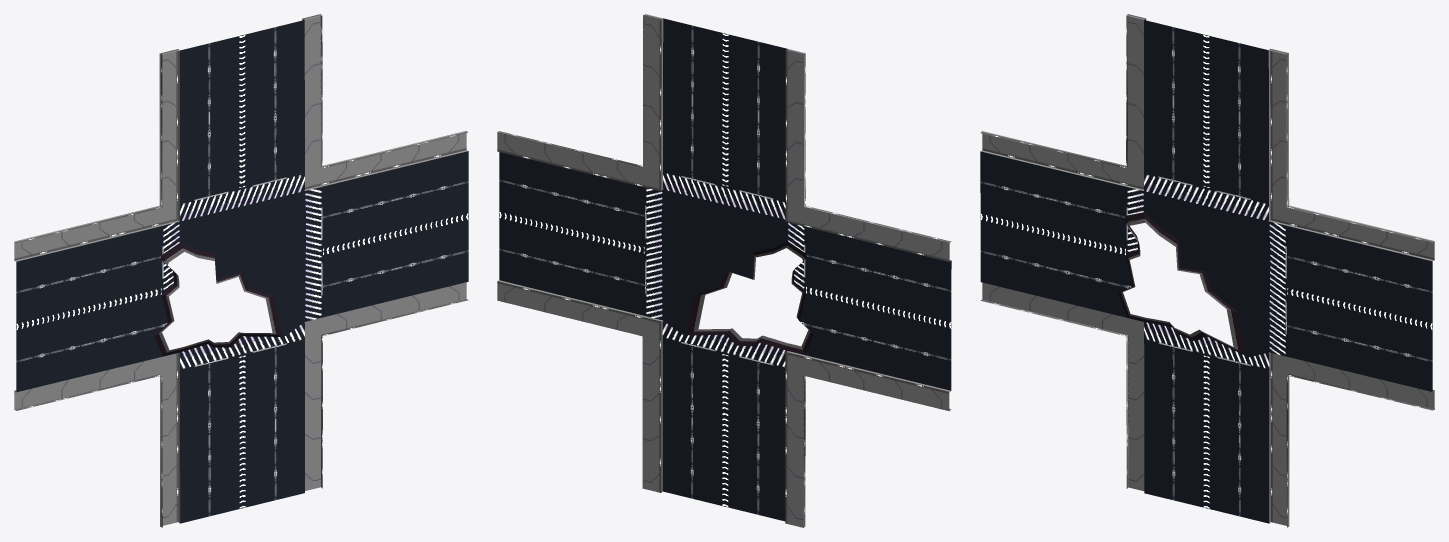
The model's file is SM_L_BXroad.fbx.
3 views of the same model, side by side, from view 1: azimuth 30°, elevation 25°; view 2: azimuth 150°, elevation 25°; view 3: azimuth 330°, elevation 25° (orthographic).
Parts seen in each view (by area): view 1: SM_L_BXroad; view 2: SM_L_BXroad; view 3: SM_L_BXroad.
Part boxes in pixels (x1,y1,x2,y2): SM_L_BXroad: (14,14,468,527); SM_L_BXroad: (497,14,951,527); SM_L_BXroad: (980,14,1434,527).
Size of the model in its own units: 14056 by 14056 by 193.
